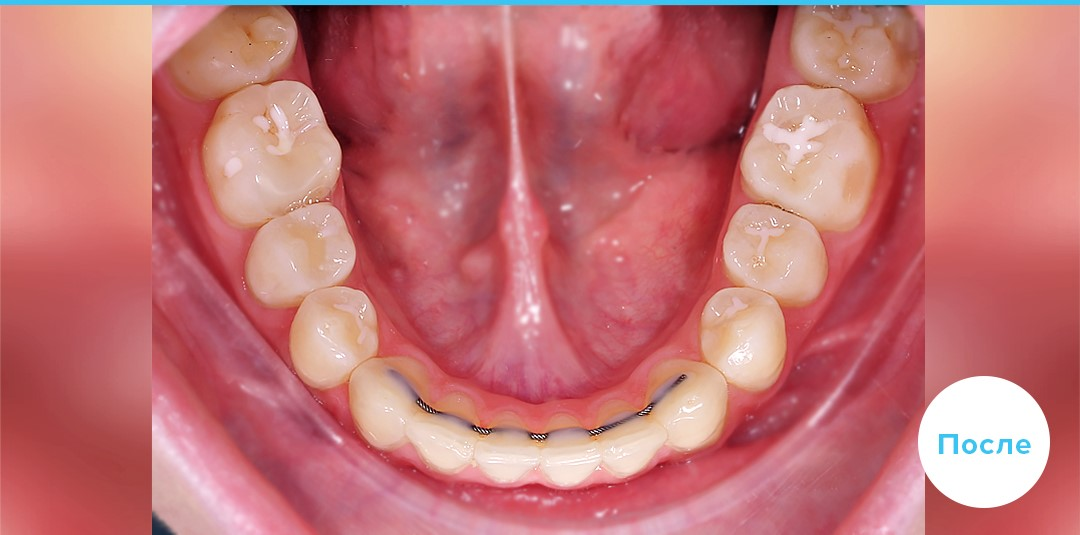LL1BC_healthy: (696, 284, 788, 394)
LL1M_healthy: (735, 82, 877, 230)
LL2BC_healthy: (720, 200, 832, 306)
LL2M_decay: (787, 4, 922, 105)
LLCI_decay: (538, 411, 599, 494)
LLC_decay: (643, 357, 730, 451)
LLLI_decay: (594, 395, 666, 489)
LR1BC_healthy: (291, 282, 380, 389)
LR1M_healthy: (202, 81, 340, 222)
LR2BC_healthy: (247, 202, 354, 307)
LR2M_decay: (165, 8, 306, 103)
LRCI_decay: (475, 412, 535, 488)
LRC_decay: (350, 353, 431, 453)
LRLI_decay: (405, 391, 477, 479)
